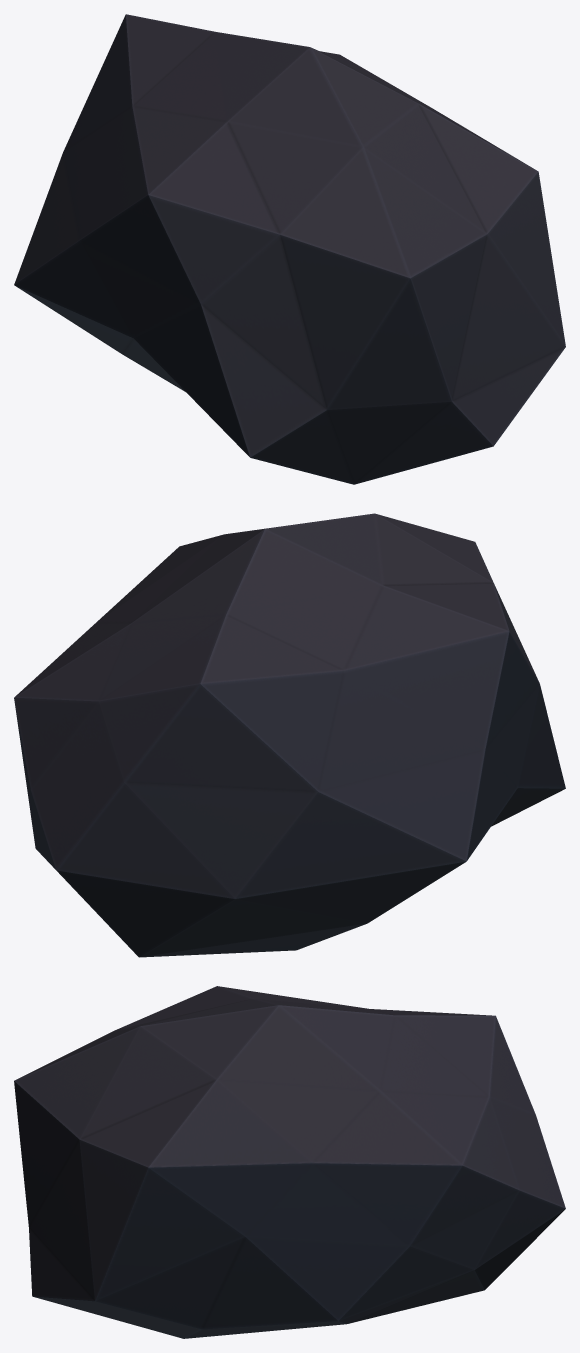
File: Bush.fbx
The picture shows the model from 3 angles, top to bottom: view 1: azimuth 30°, elevation 25°; view 2: azimuth 150°, elevation 25°; view 3: azimuth 270°, elevation 25°; orthographic projection. The views are drawn at different scales.
Parts seen in each view (by area): view 1: Bush; view 2: Bush; view 3: Bush.
Part boxes in pixels (box(x1,y1,x2,y2)): Bush: box(14, 14, 565, 484); Bush: box(14, 513, 565, 957); Bush: box(14, 986, 565, 1338).
Size of the model in its own units: 60.71 by 51.58 by 78.08.
